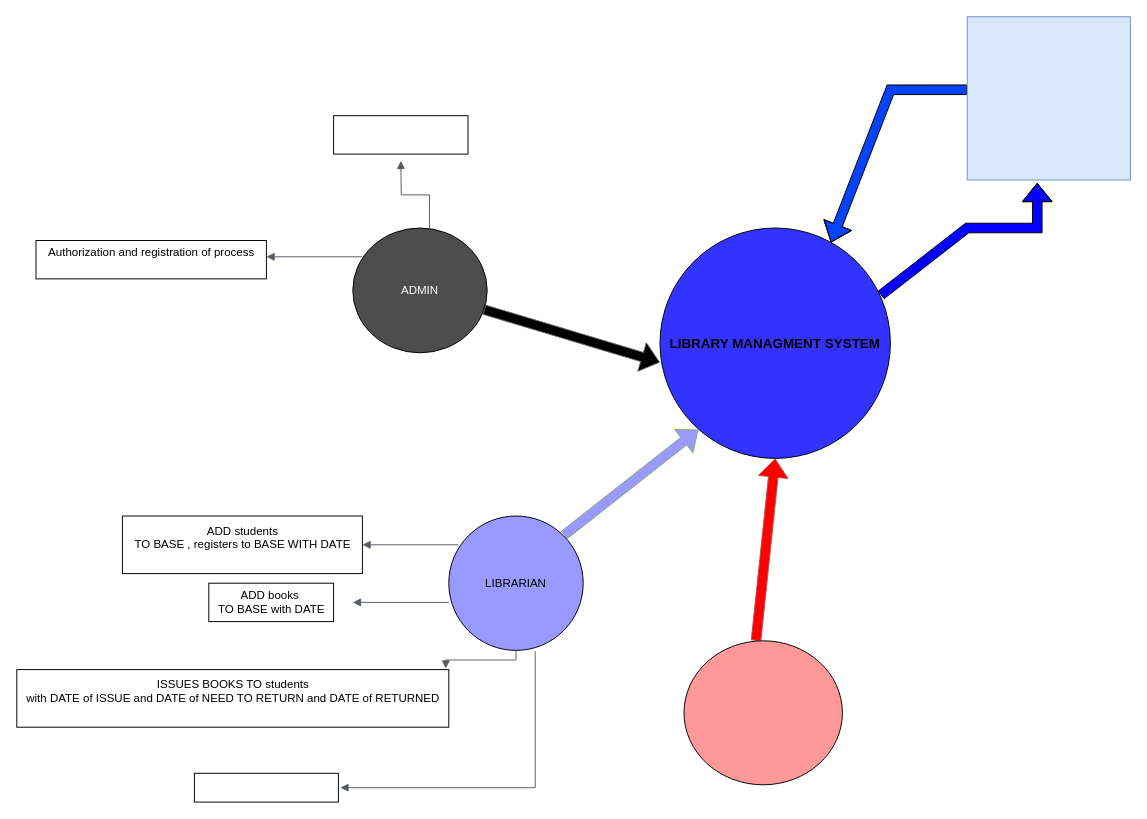
This 1147x819 diagram has some shape labels left out. The box of each missing label's shape, as (x1, y1, x2, y2) in pixels:
LIBRARY BOOKS BASE: (966, 16, 1130, 180)
Security of application: (333, 115, 468, 154)
Sends msg to students: (193, 772, 338, 802)
STUDENT: (683, 640, 842, 785)
